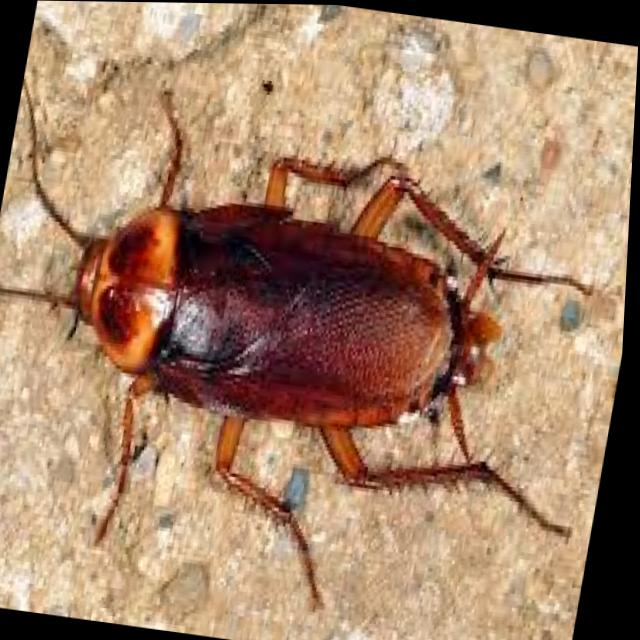Cockroach: (0, 56, 638, 640)
